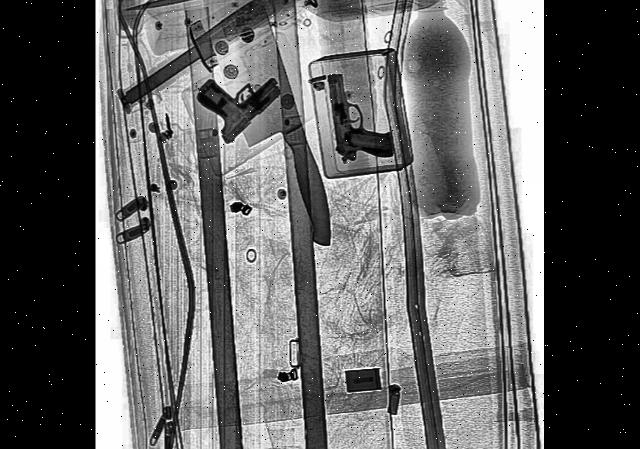Gun: (194, 26, 284, 156), (328, 56, 393, 172)
Knife: (202, 0, 340, 277), (127, 0, 300, 112), (125, 0, 296, 17)
